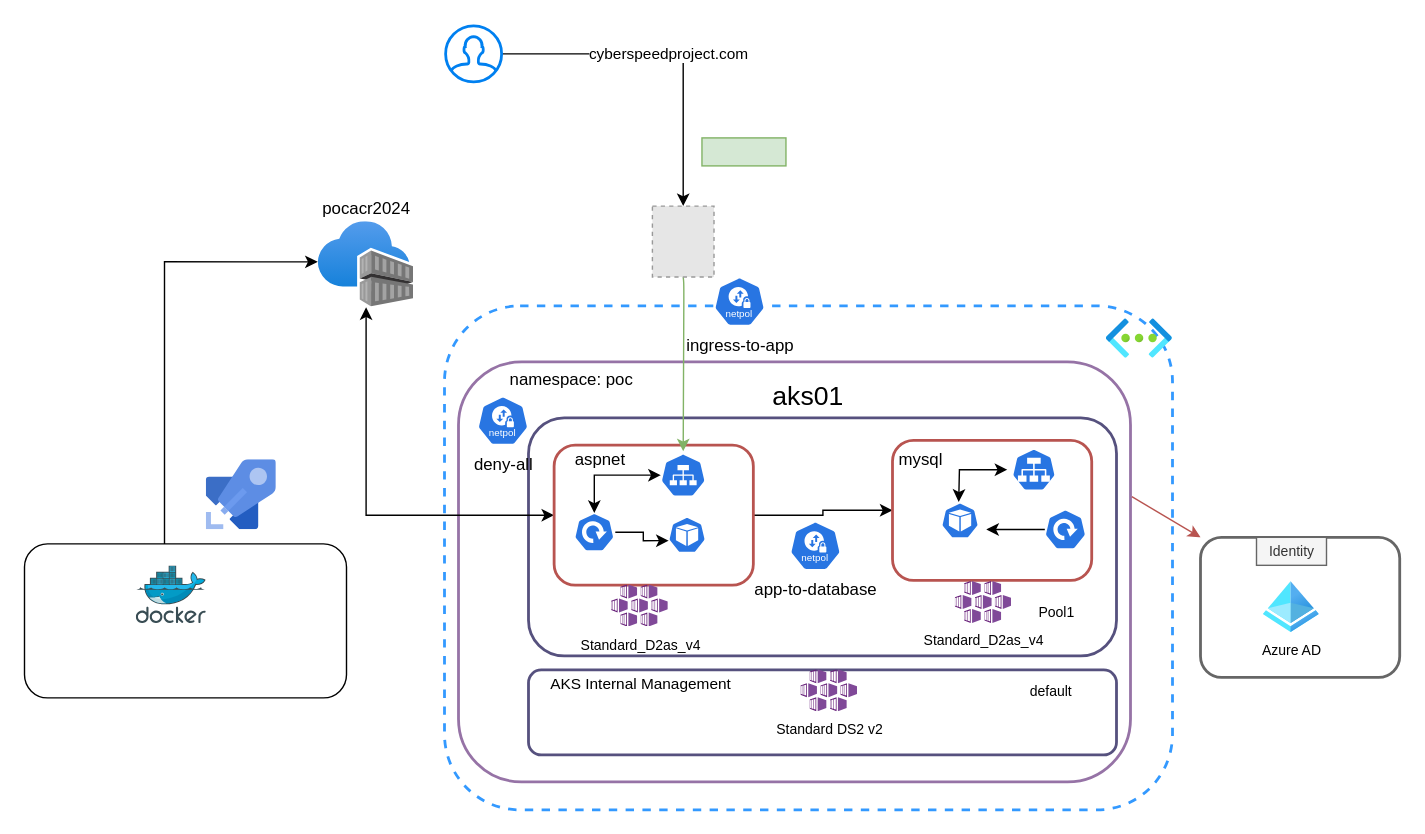
Image size: 1425x834. Some labels were removed from this diagram. Grey dashed boxes stand in for pictures. The shapes that lost their labels are listed below. From the top down, each one's centre as x and y in pixels, then its label:
the point at 473,53: User
the point at 743,151: Inbound
the point at 1139,338: VNet
the point at 171,594: Build and Push to ACR
